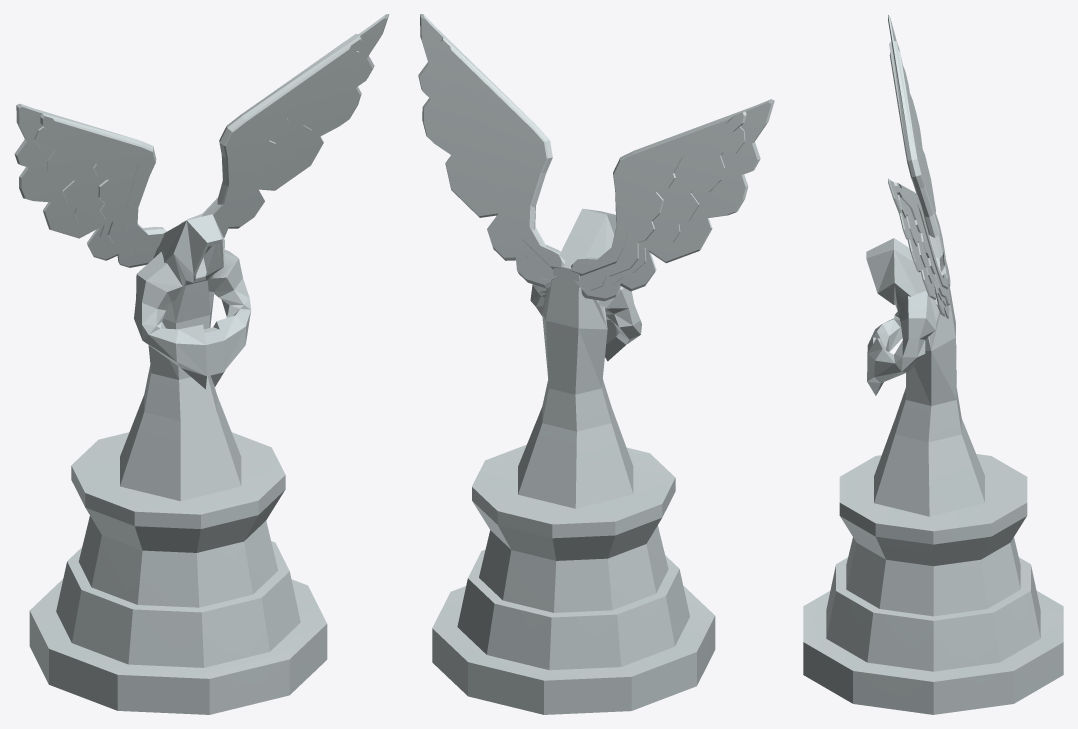
Rendered from statue.fbx.
The picture shows the model from 3 angles, left to right: view 1: azimuth 30°, elevation 25°; view 2: azimuth 150°, elevation 25°; view 3: azimuth 270°, elevation 25°; orthographic projection. The views are drawn at different scales.
Visible parts, largest first — view 1: Prop_Statue_Angel_01; view 2: Prop_Statue_Angel_01; view 3: Prop_Statue_Angel_01.
Boxes of the visible parts, bbox=[...] form: Prop_Statue_Angel_01: bbox=[14, 14, 389, 714]; Prop_Statue_Angel_01: bbox=[418, 14, 774, 714]; Prop_Statue_Angel_01: bbox=[803, 14, 1063, 714].
Bounding box in the file's own units: 242 × 379 × 160.
Materials: 1 (1 with a texture image).
